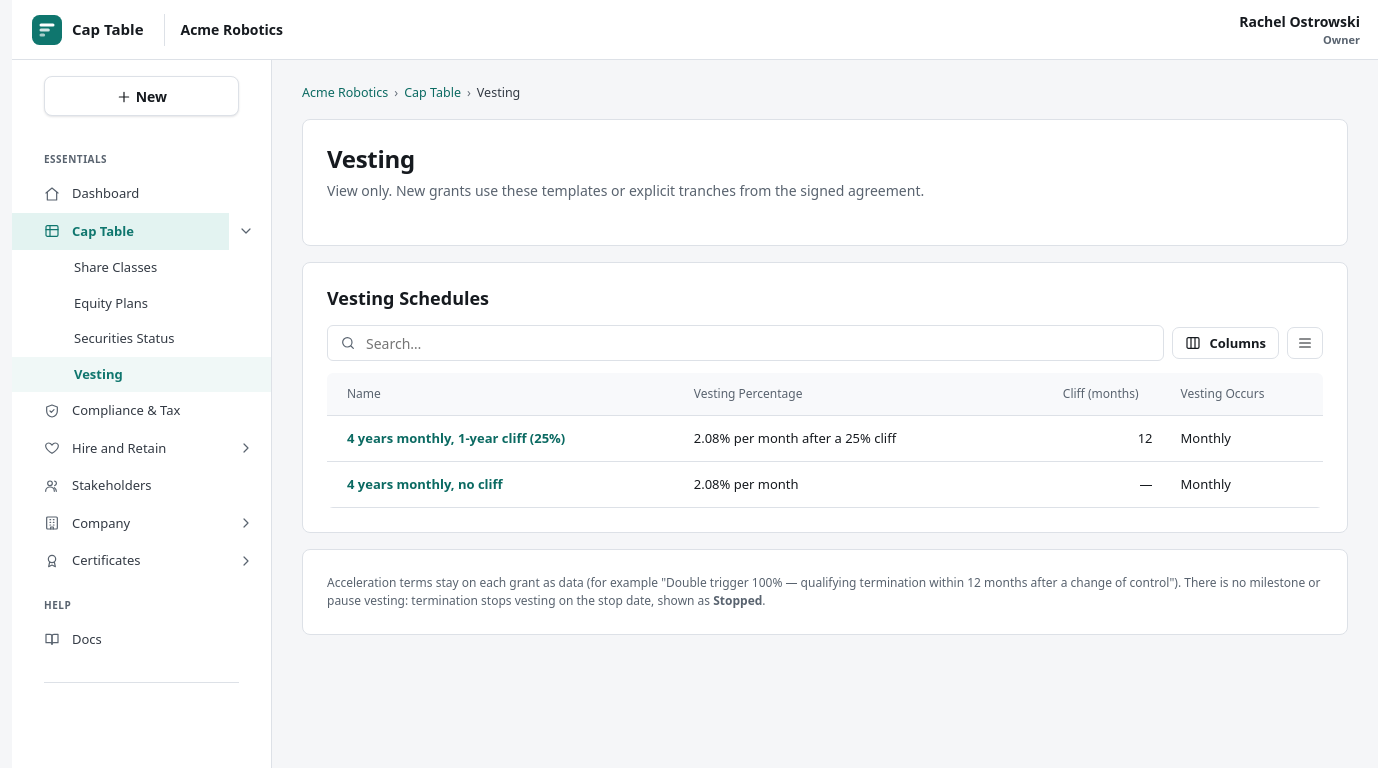
Test case: vesting › lists the schedule library with Pulley's columns and optional ones
The image size is (1378, 768).
Expected: the text "2.08% per month after a 25% cliff" is shown, [680,416,1002,462]
Expected: the text "12" is shown, [1002,416,1167,462]
Click the button "Columns". click: (1226, 343)
box: [1172,327,1279,359]
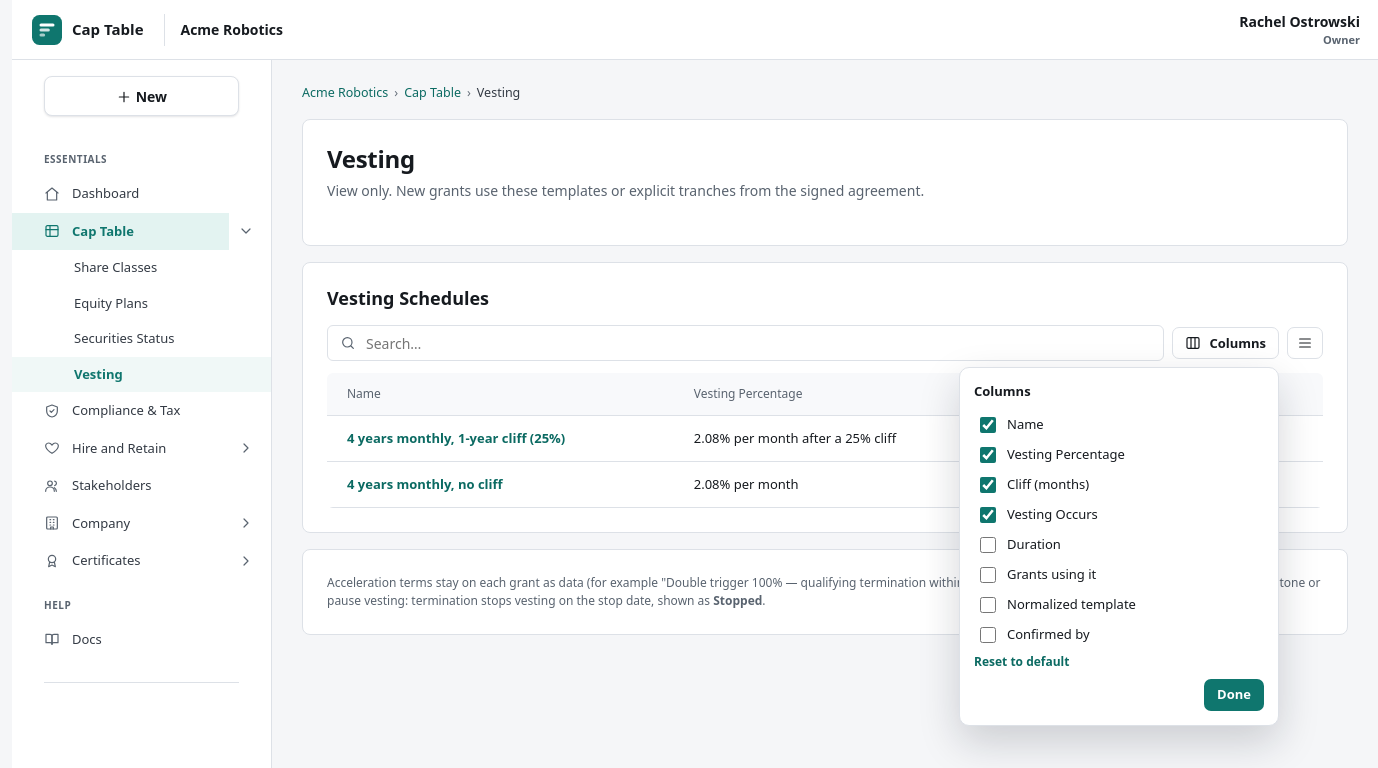
Click the checkbox labelled "Normalized template". click: (988, 605)
box: [980,597,996,613]
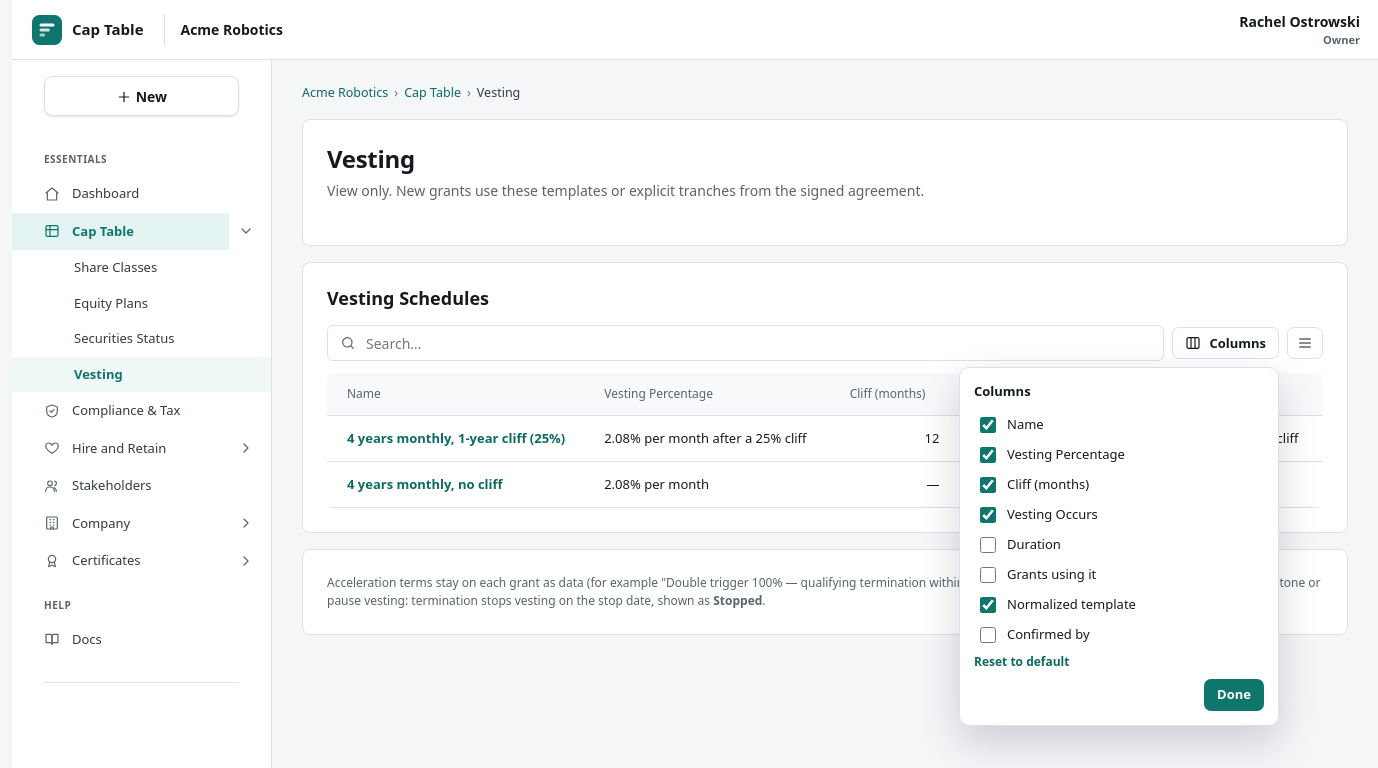
Expected: the text "There is no milestone or pause vesting" is shown, [327,574,1320,609]
Now the text "48 months, monthly, 12-month cliff" is shown, box [1070,416,1323,462]
